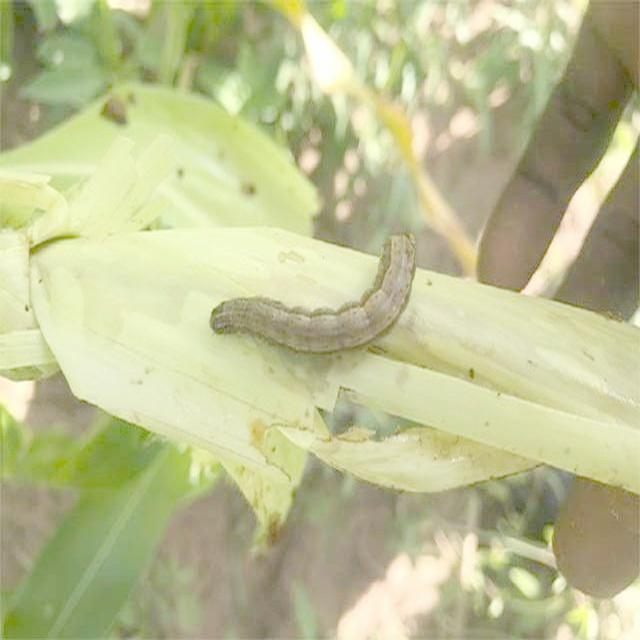gusano_cogollero: (200, 228, 422, 362)
